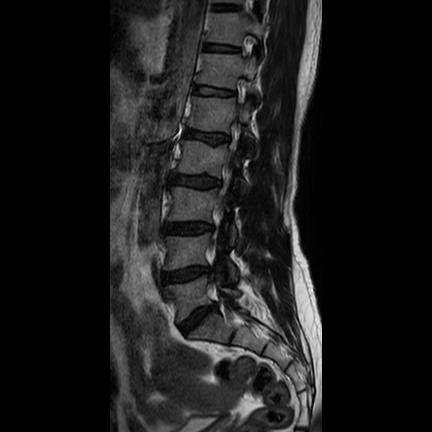LFS0: (221, 116, 247, 157)
